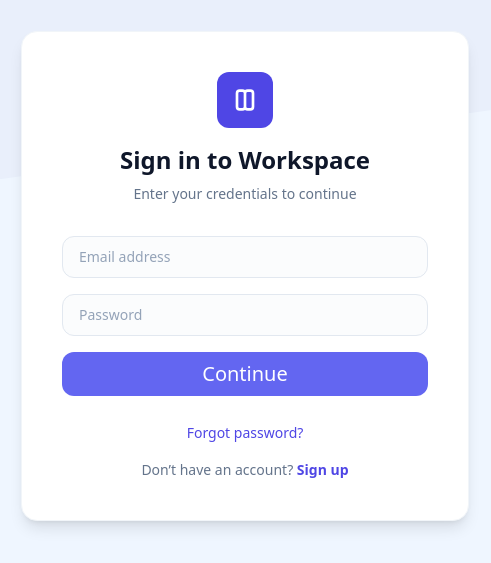
shows validation errors on empty submit
This screenshot has width=491, height=563.
Click the button "Continue" at point(245, 374), box [62,352,428,396]
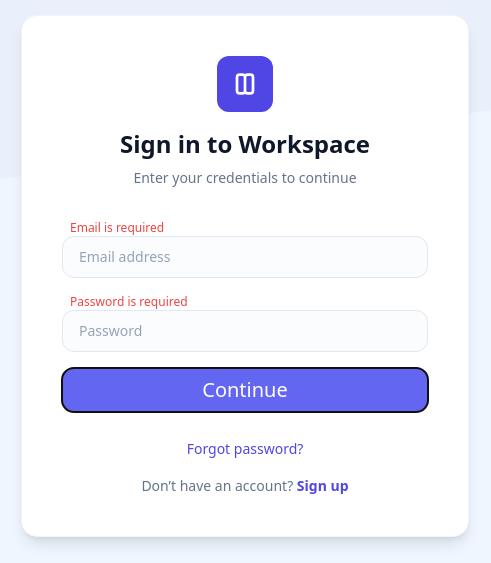
Now the text "Email is required" is shown, box [70,219,164,236]
Now the text "Password is required" is shown, box [70,293,188,310]
